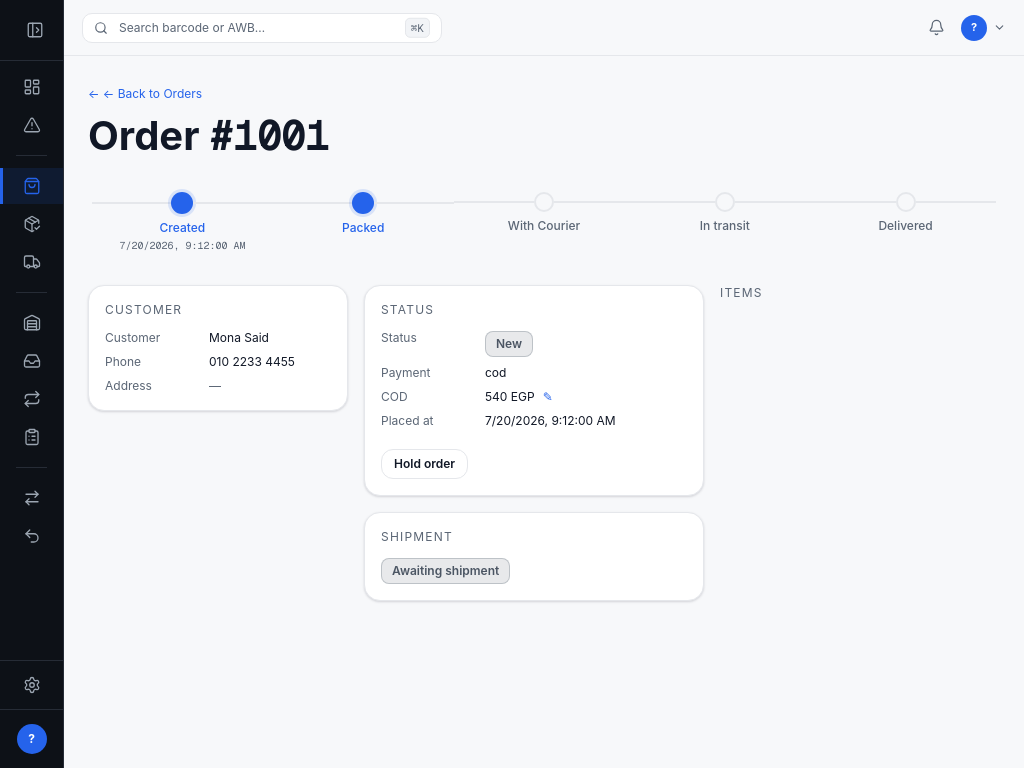
Test: Order detail › COD inline edit — view → editing → saving → error, className-only over the existing state machine
This screenshot has width=1024, height=768.
Expected: the text "#1001" is shown, [209,110,329,162]
Expected: the text "540 EGP" is shown, [485,389,535,405]
Click the button titled "Edit COD" at point(548, 397), box [543,391,553,403]
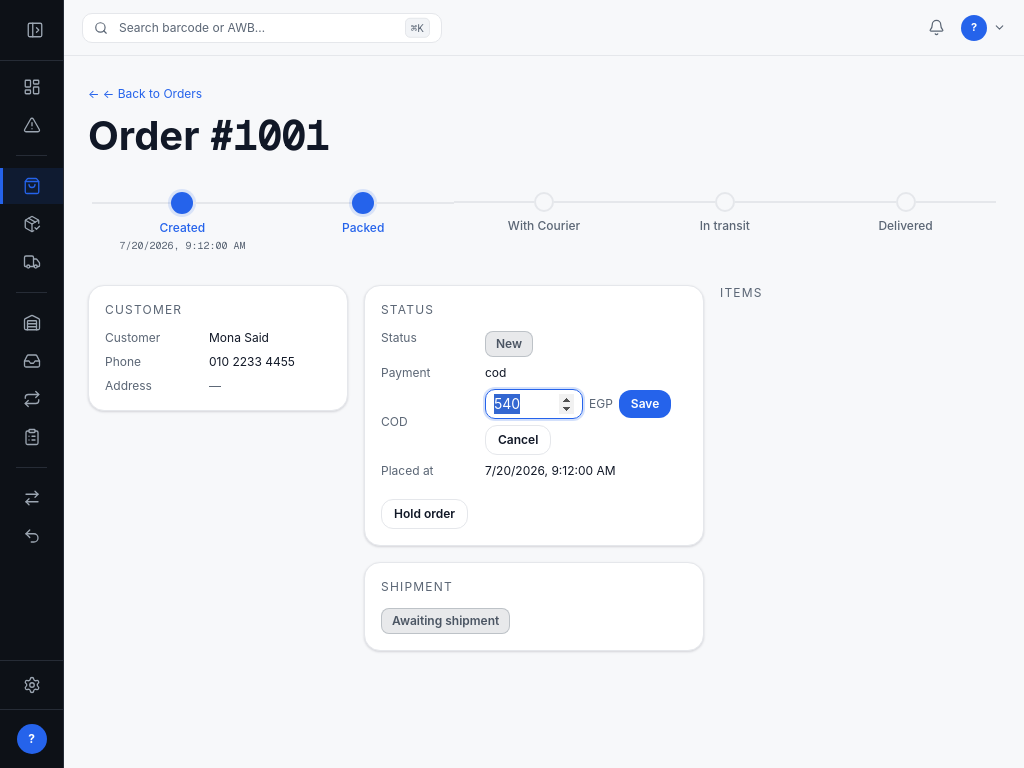
Replace the text in the number field showing "540" with "560" at point(534, 404), box [486,390,582,418]
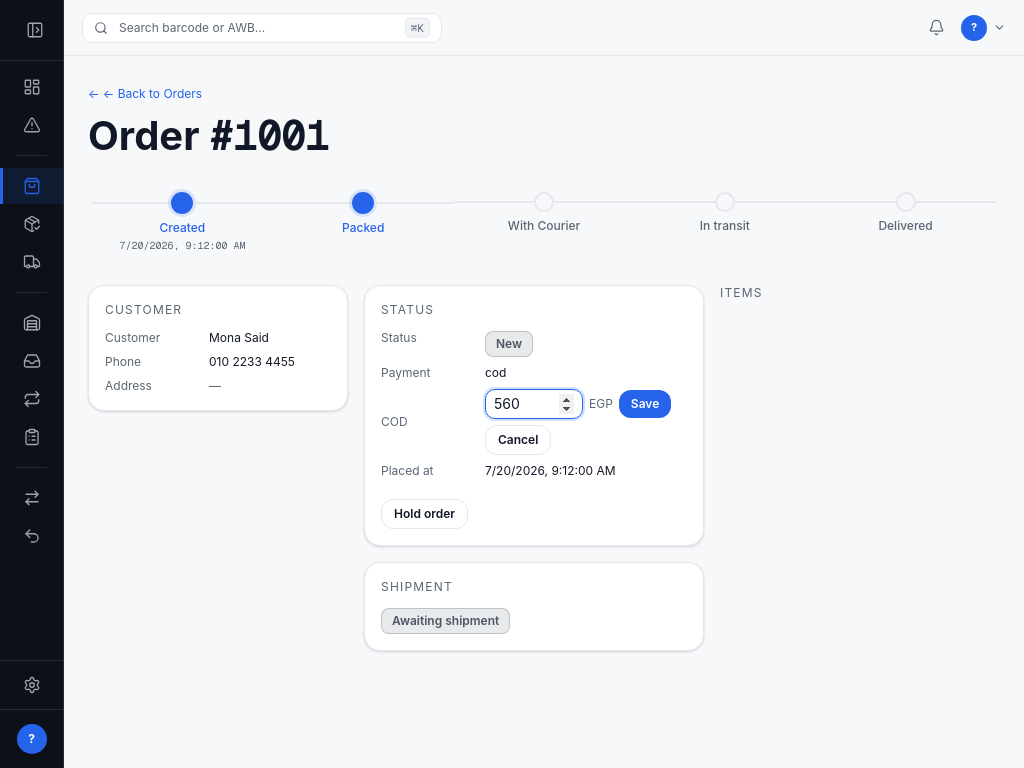
// saving → error (PATCH rejects) — wrapper switches to critical border
Click the button "Save" at point(645, 404), box [619,390,671,418]
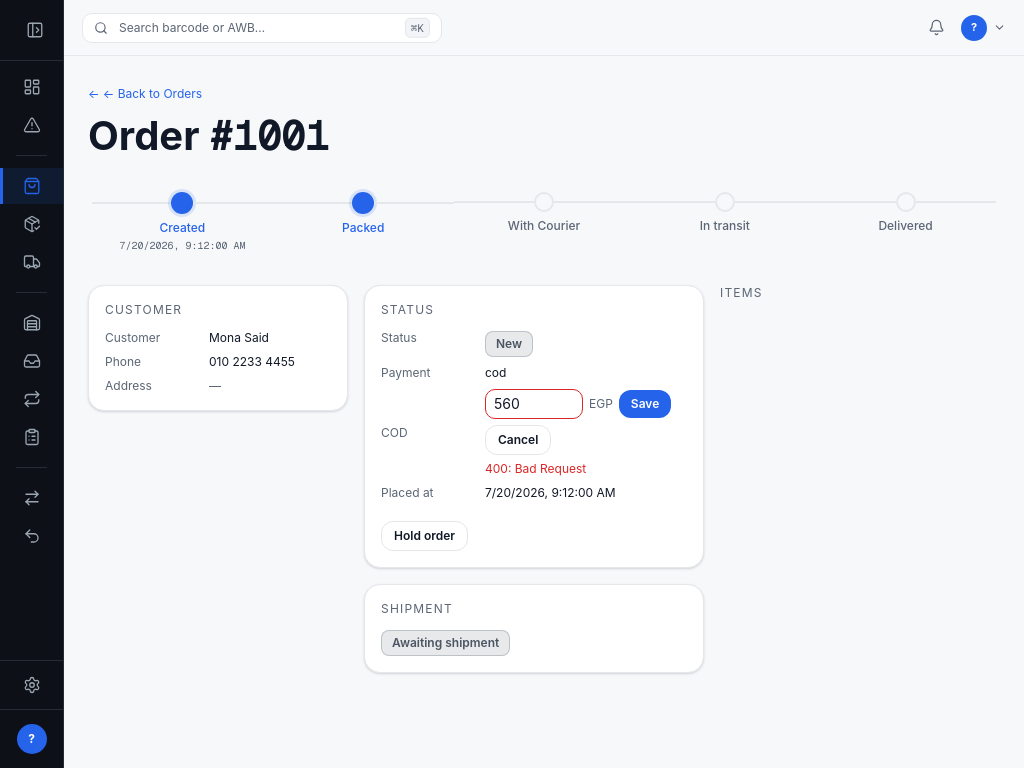
Result: the text "400: Bad Request" is shown at [485,461,586,476]
